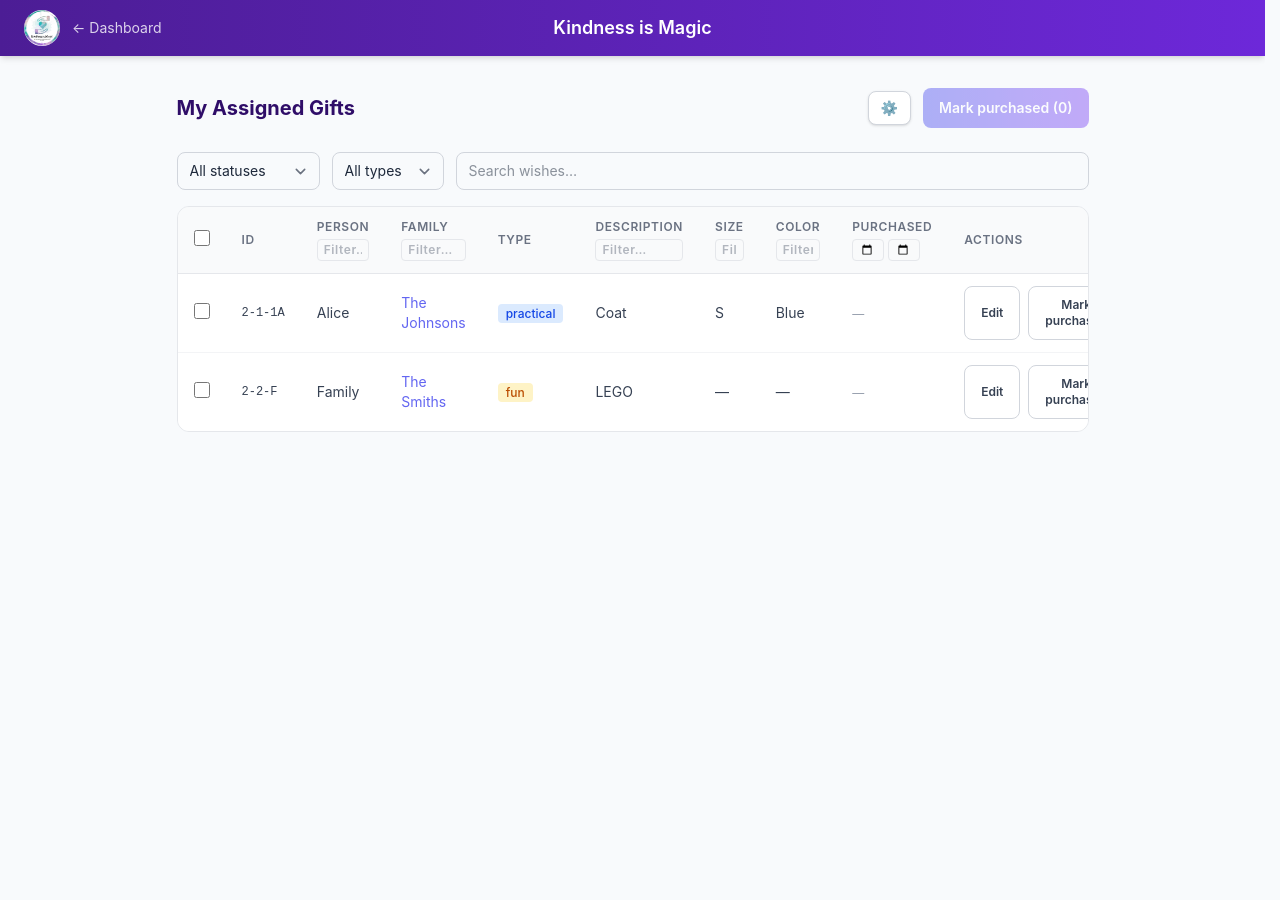
Test: AdminAssignedGifts › batch marks selected wishes through the dialog
# Select both rows, then open the batch dialog from the header button
Click the checkbox named "Select all wishes on this page" at (202, 238), box [194,230,210,246]
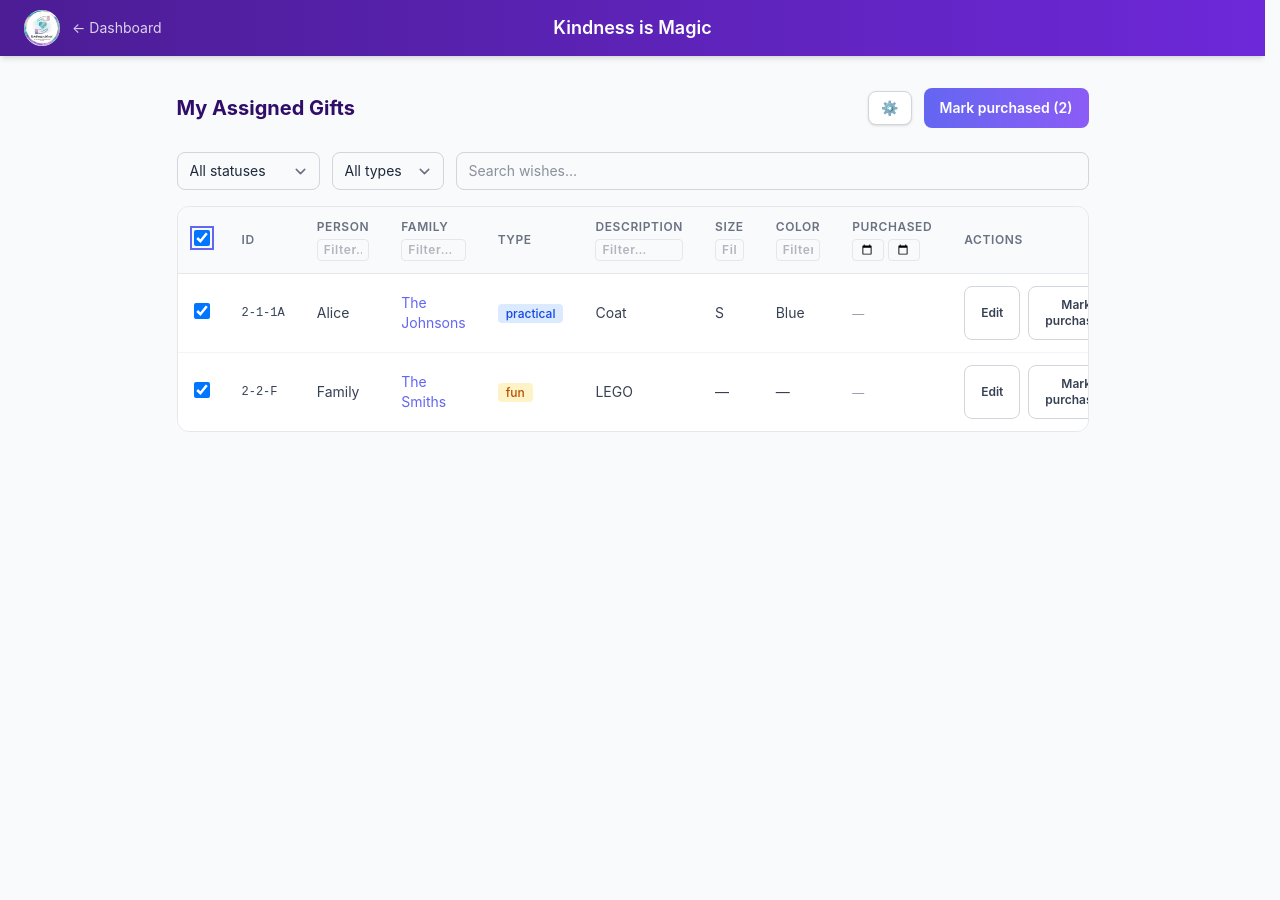
Click the button "Mark purchased (2)" at (1006, 108), box [924,88,1088,128]
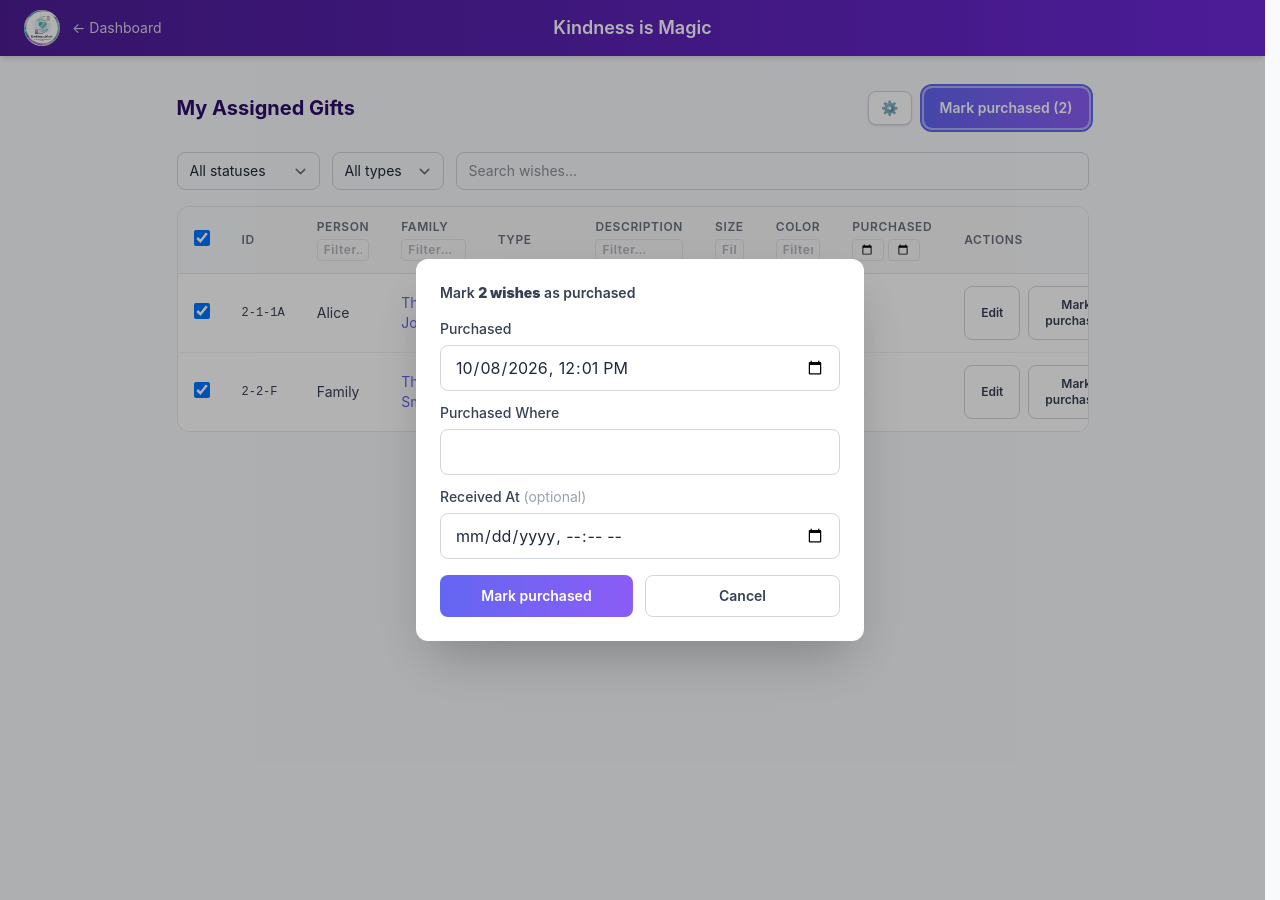
Type "Amazon" into the field labelled "Purchased Where" at (640, 452), box [440,429,840,475]
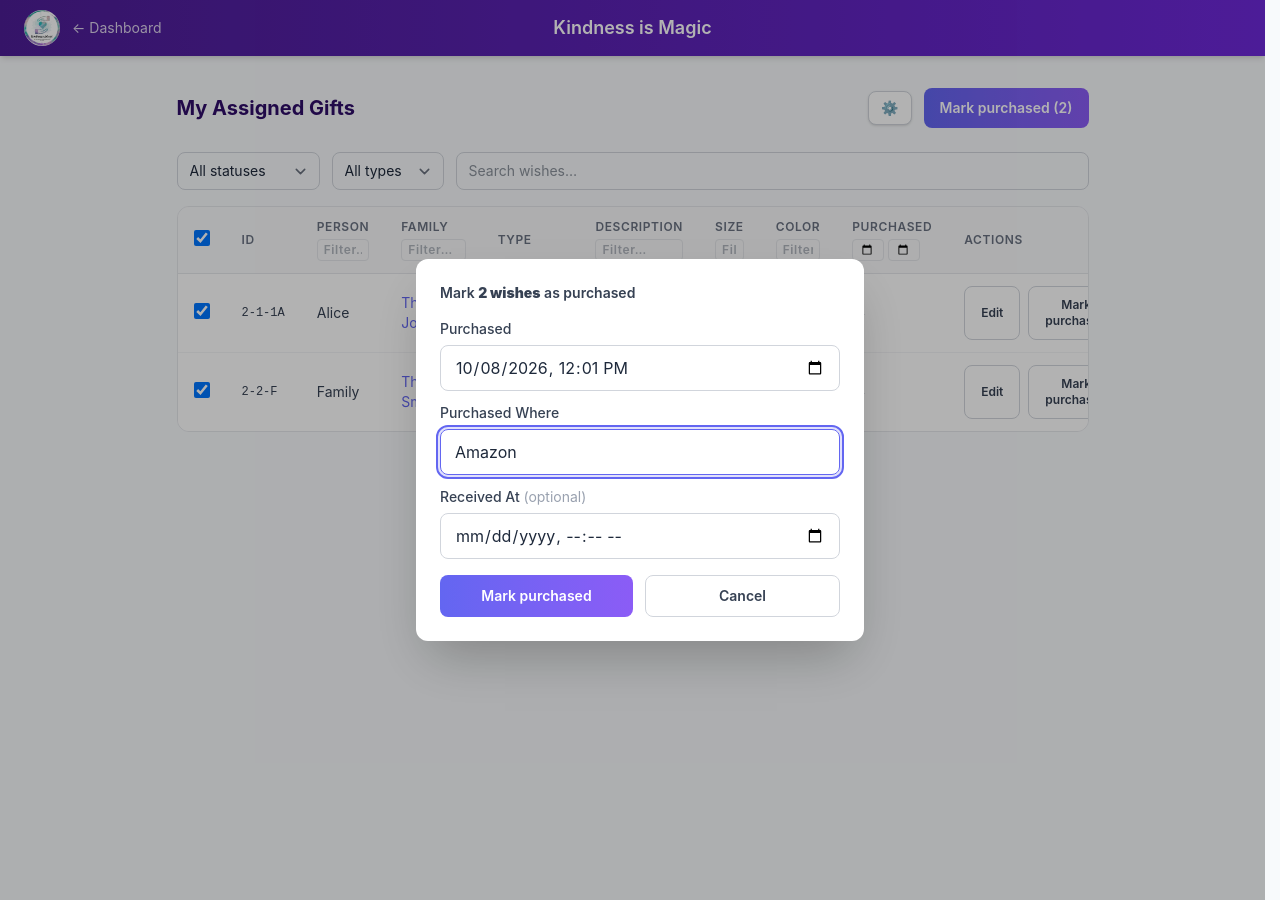
Click the button "Mark purchased" at (536, 596), box [440,575,633,617]
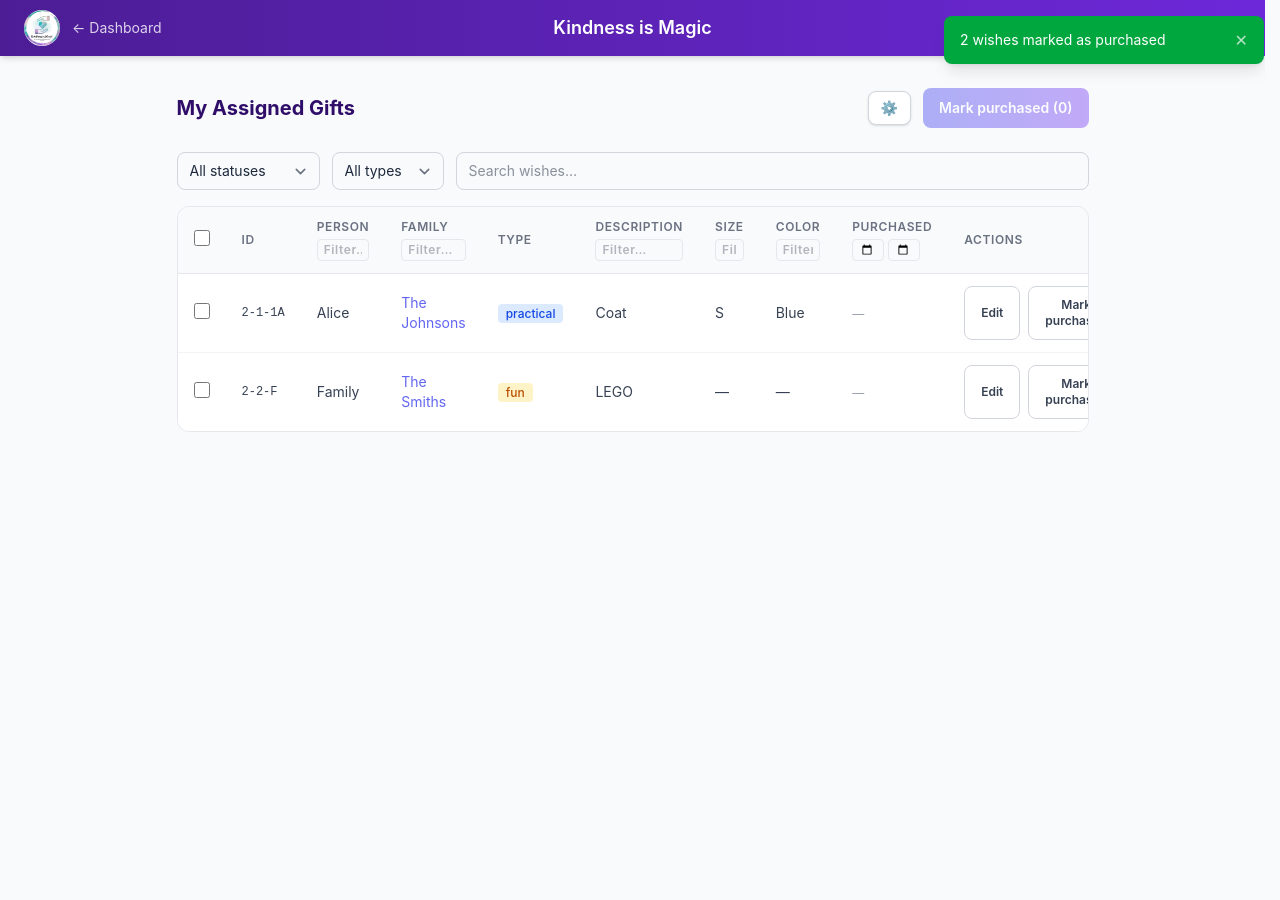
expect the text "2 wishes marked as purchased" is shown: met, box [960,31,1166,48]
expect the button "Mark purchased (0)" is disabled: met, box [923,88,1088,128]
